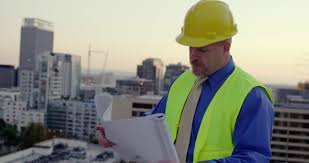Person_wearing_helmet: (170, 0, 242, 53)
